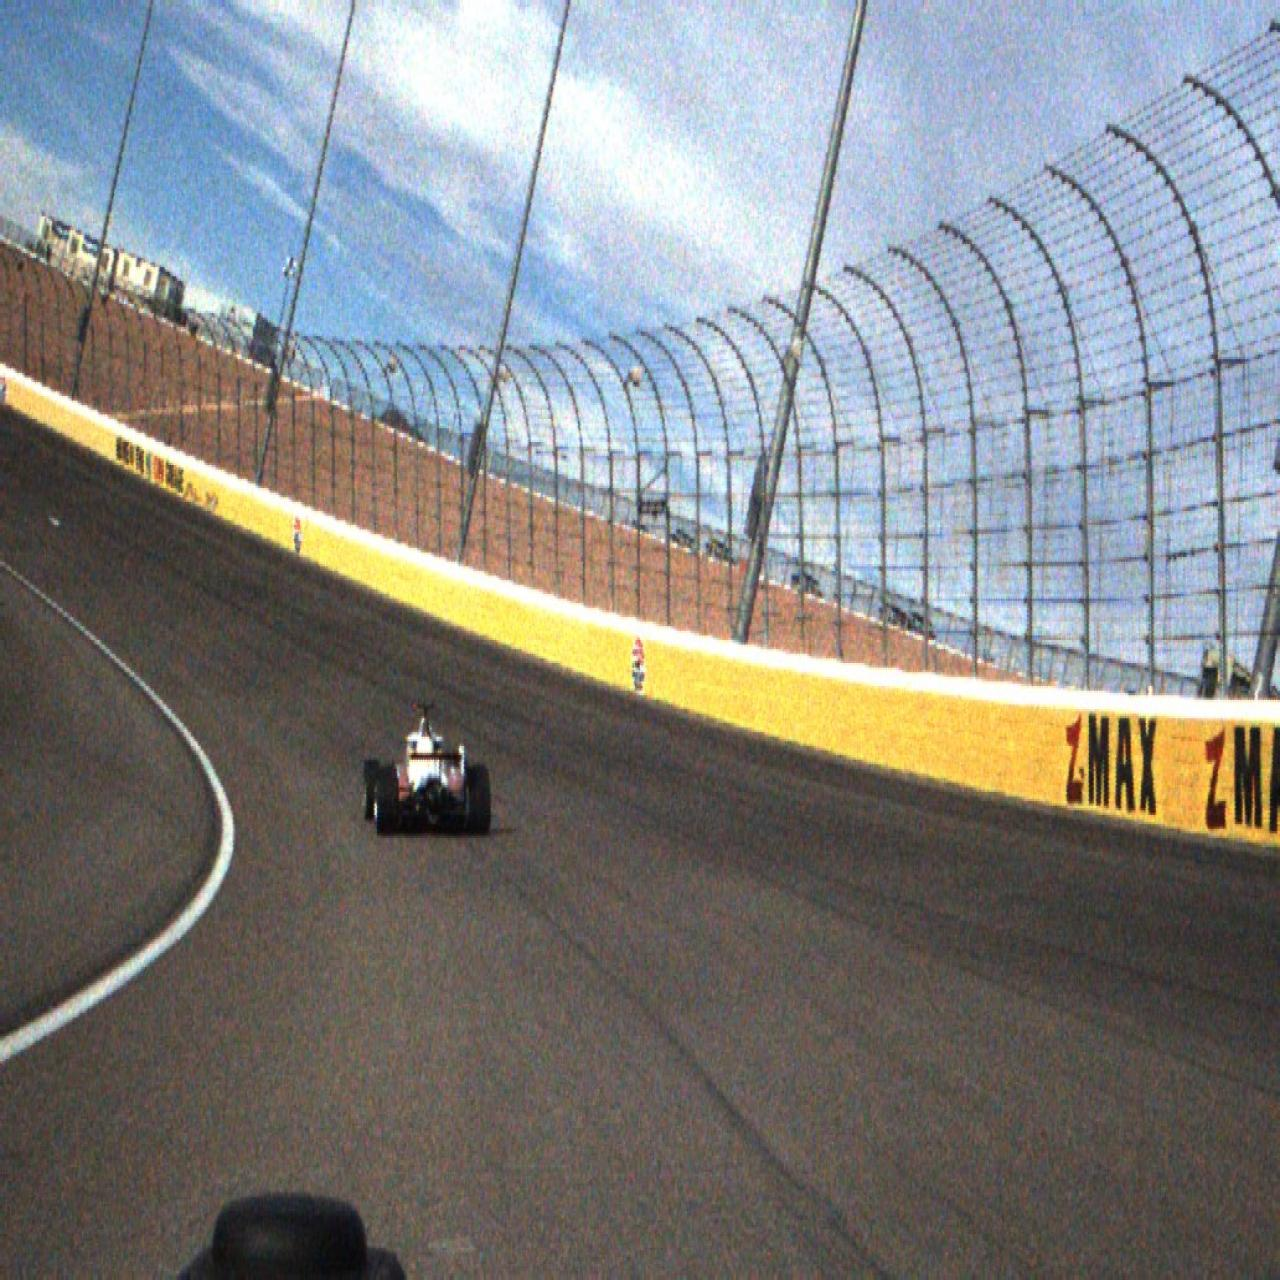AV: (362, 701, 492, 838)
Wheel: (374, 766, 398, 837), (469, 764, 492, 836), (363, 759, 380, 822)
